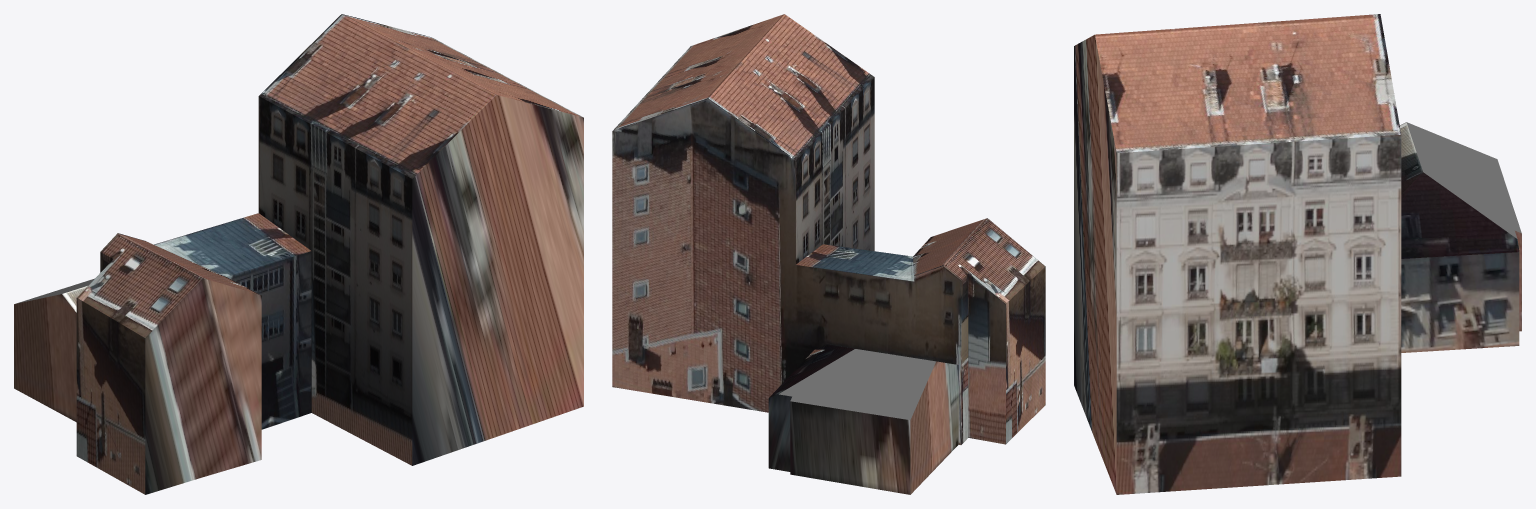
3 renders of one model, left to right at view 1: azimuth 30°, elevation 25°; view 2: azimuth 150°, elevation 25°; view 3: azimuth 270°, elevation 25°, orthographic. The views are drawn at different scales.
Parts seen in each view (by area): view 1: Z_UP; view 2: Z_UP; view 3: Z_UP.
Boxes of the visible parts, <box> form: Z_UP: <box>14,14,583,494</box>; Z_UP: <box>612,14,1045,494</box>; Z_UP: <box>1074,14,1521,494</box>.
Bounding box in the file's own units: 35.97 × 27.32 × 27.34.
Materials: 2 (1 with a texture image).
